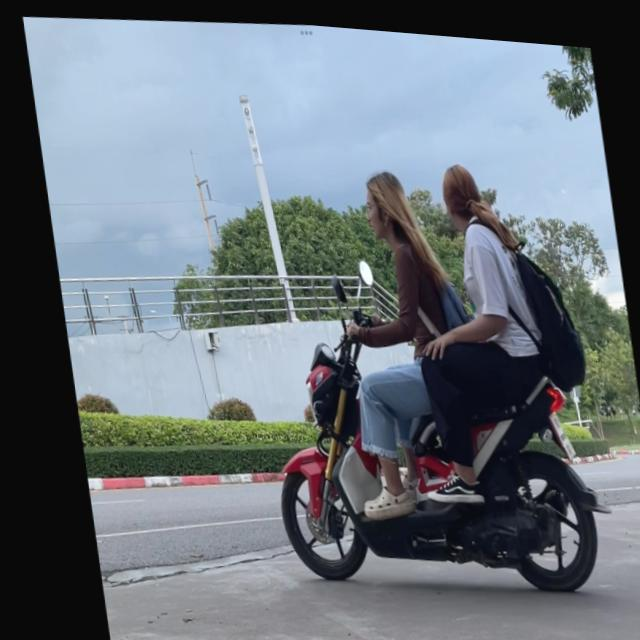seatbelt: (357, 161, 410, 238), (434, 152, 485, 229)
